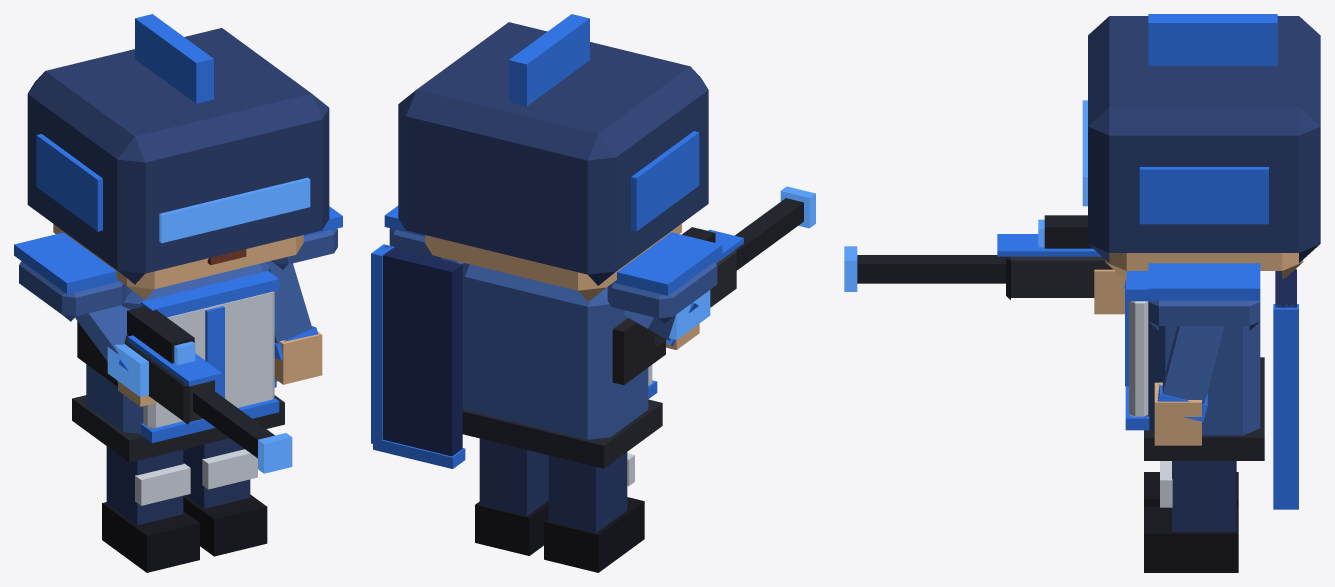
Rendered from rifleman_super_rare.glb.
3 views of the same model, side by side, from view 1: azimuth 30°, elevation 25°; view 2: azimuth 150°, elevation 25°; view 3: azimuth 270°, elevation 25° (orthographic). The views are drawn at different scales.
Parts seen in each view (by area): view 1: rifleman_super_rare_mesh; view 2: rifleman_super_rare_mesh; view 3: rifleman_super_rare_mesh.
Part boxes in pixels (x1=…): rifleman_super_rare_mesh: x1=14, y1=14, x2=342, y2=572; rifleman_super_rare_mesh: x1=371, y1=14, x2=815, y2=572; rifleman_super_rare_mesh: x1=844, y1=14, x2=1320, y2=572.
Size of the model in its own units: 0.7567 by 1.3 by 1.07.
2 materials, 2 textured.
